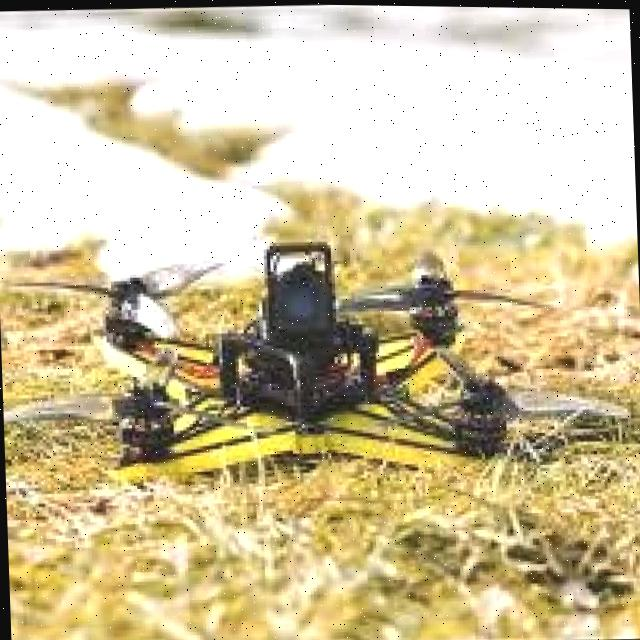drone: (0, 230, 640, 521)
